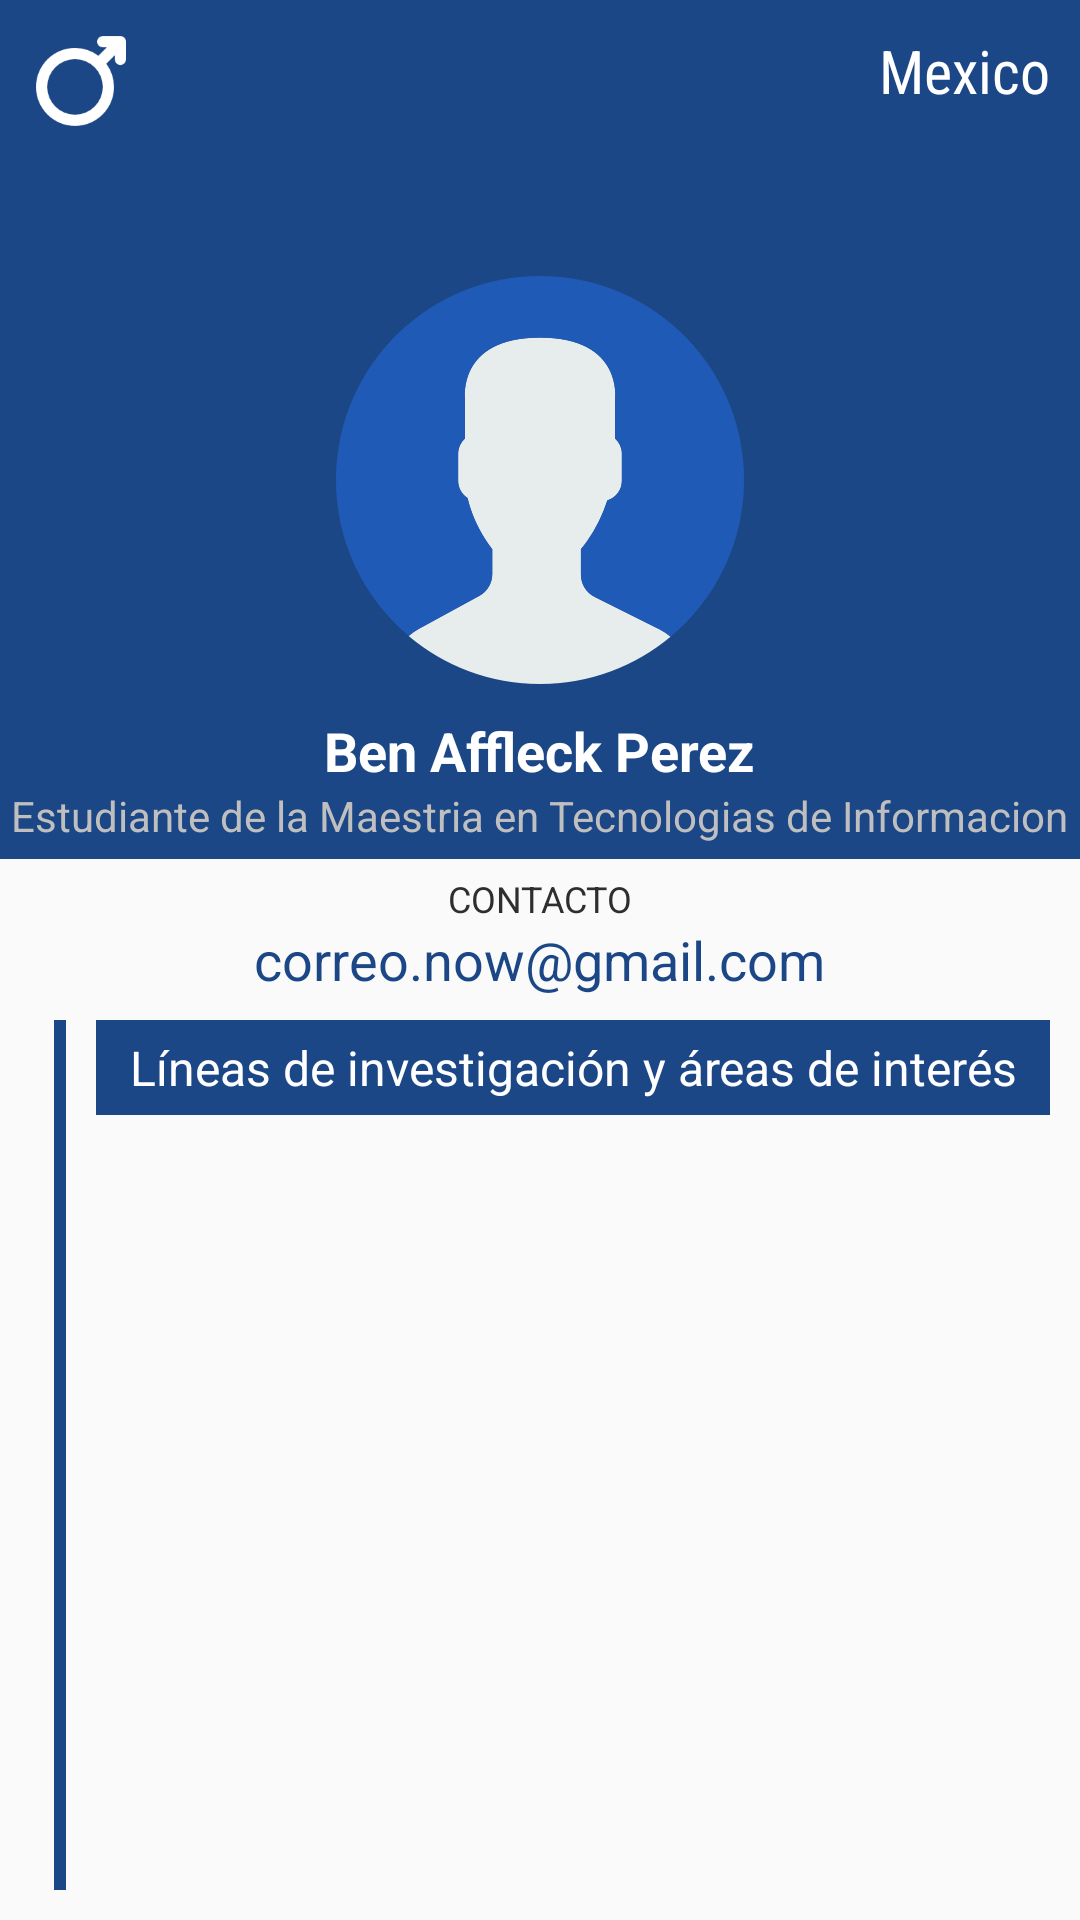

Where icons sit on this 1080w x 1920h app screen, as [left=x1, top=y1, right=x2, bottom=y2]:
male: [left=36, top=36, right=126, bottom=126]
